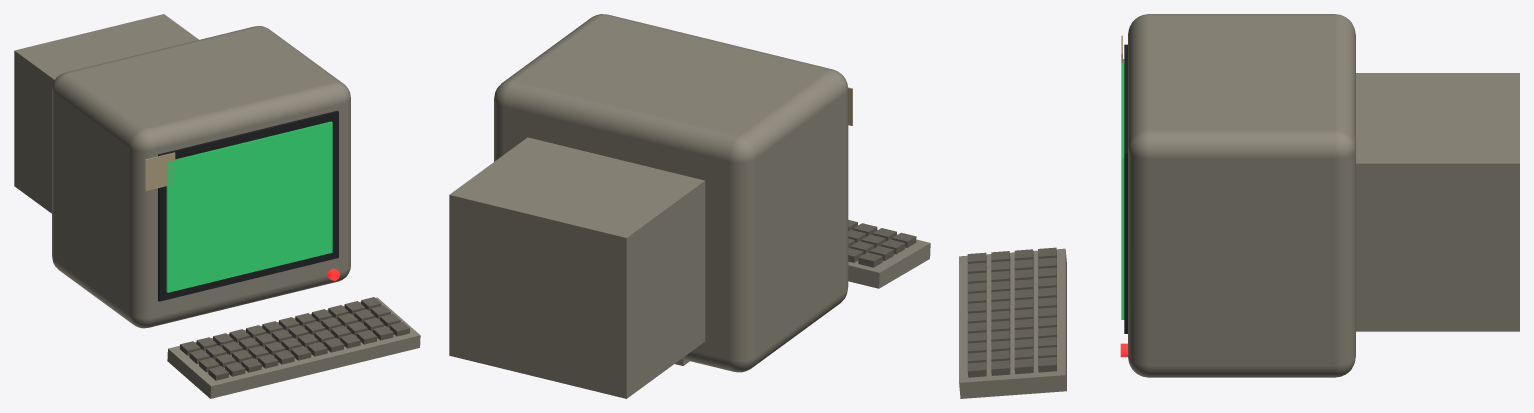
Rendered from crt-terminal.glb.
3 renders of one model, left to right at view 1: azimuth 30°, elevation 25°; view 2: azimuth 150°, elevation 25°; view 3: azimuth 270°, elevation 25°, orthographic. The views are drawn at different scales.
Parts seen in each view (by area): view 1: beigePlastic, crtScreen, iron, paperOld; view 2: beigePlastic; view 3: beigePlastic, iron, crtScreen.
Part boxes in pixels (x1,y1,x2,y2): beigePlastic: (14,14,420,398); crtScreen: (166,121,332,292); iron: (158,110,338,301); paperOld: (145,152,175,191); beigePlastic: (449,14,930,398); beigePlastic: (959,14,1519,398); iron: (1124,44,1127,333); crtScreen: (1121,59,1124,319).
Size of the model in its own units: 0.44 by 0.4065 by 0.7867.
